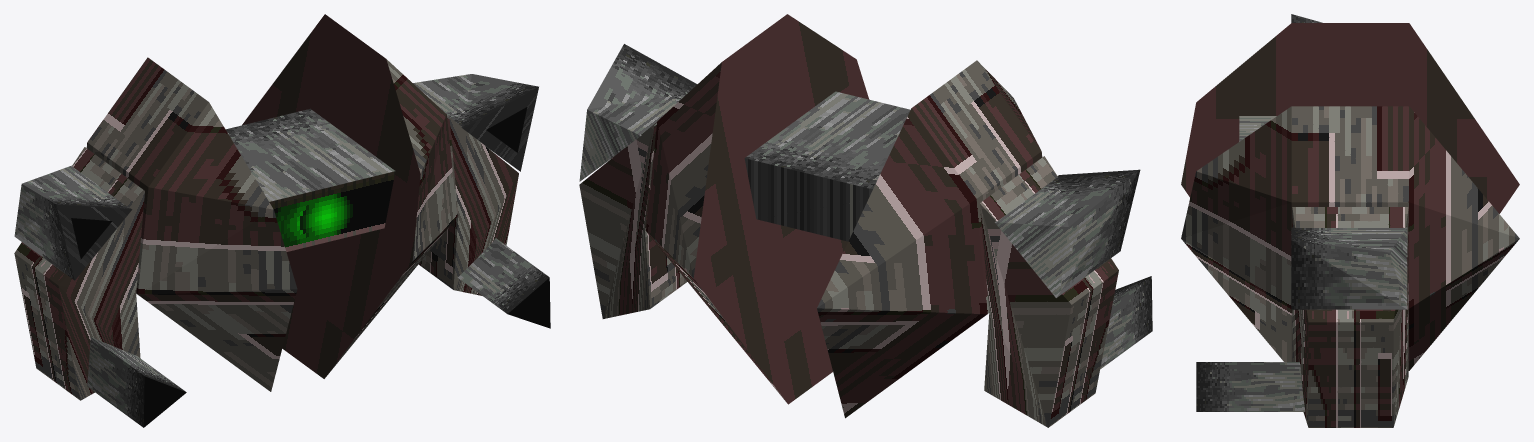
The model's file is Defense_Prototype.obj.
The picture shows the model from 3 angles, left to right: view 1: azimuth 30°, elevation 25°; view 2: azimuth 150°, elevation 25°; view 3: azimuth 270°, elevation 25°; orthographic projection. The views are drawn at different scales.
Parts seen in each view (by area): view 1: Defense_Prototype; view 2: Defense_Prototype; view 3: Defense_Prototype.
Boxes of the visible parts, x1,y1,x2,y2 form: Defense_Prototype: (14, 14, 550, 427); Defense_Prototype: (579, 14, 1152, 427); Defense_Prototype: (1181, 14, 1519, 427).
Bounding box in the file's own units: 8 × 4.83 × 5.05.
Materials: 5 (4 with a texture image).
